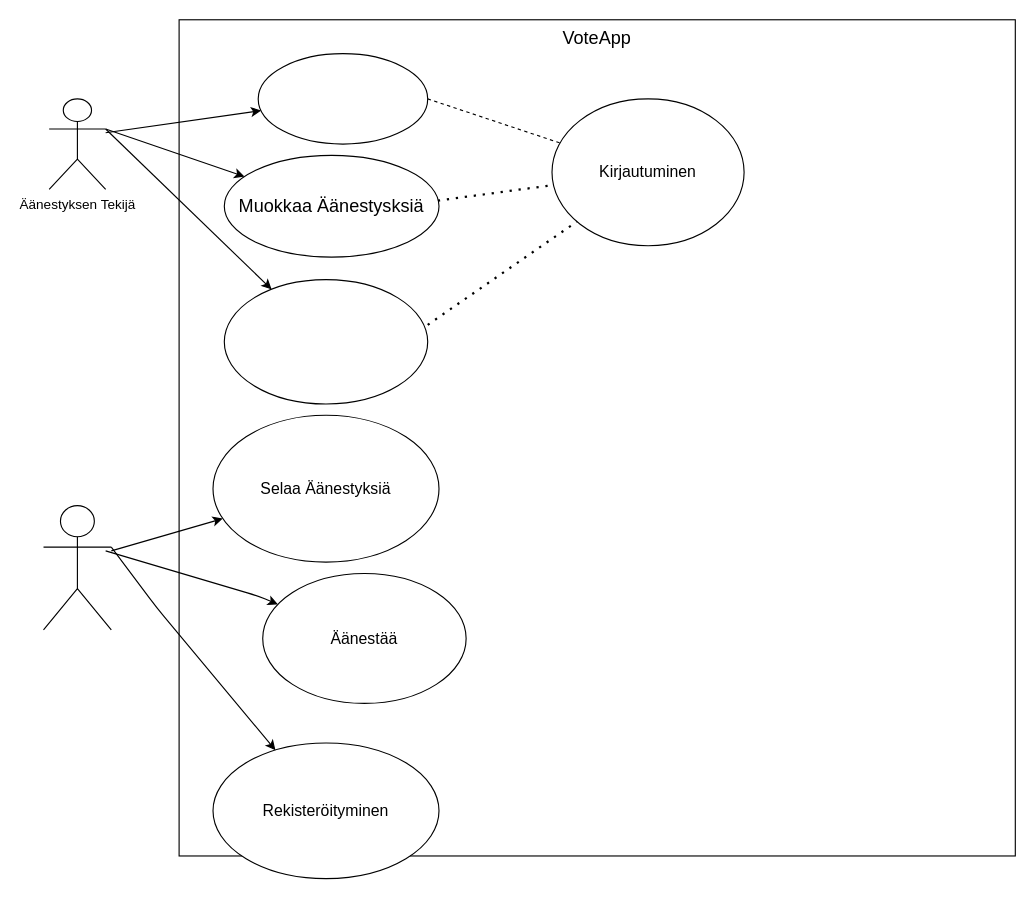
Image size: 1035x898. Some labels were removed from this diagram. Here are the shapes that lost their labels. From the top down, the centre of each, then its label:
point (342, 98): Luo Äänestysksen
point (325, 341): Poistaa Äänestyksiä
point (76, 567): Äänestäjä
